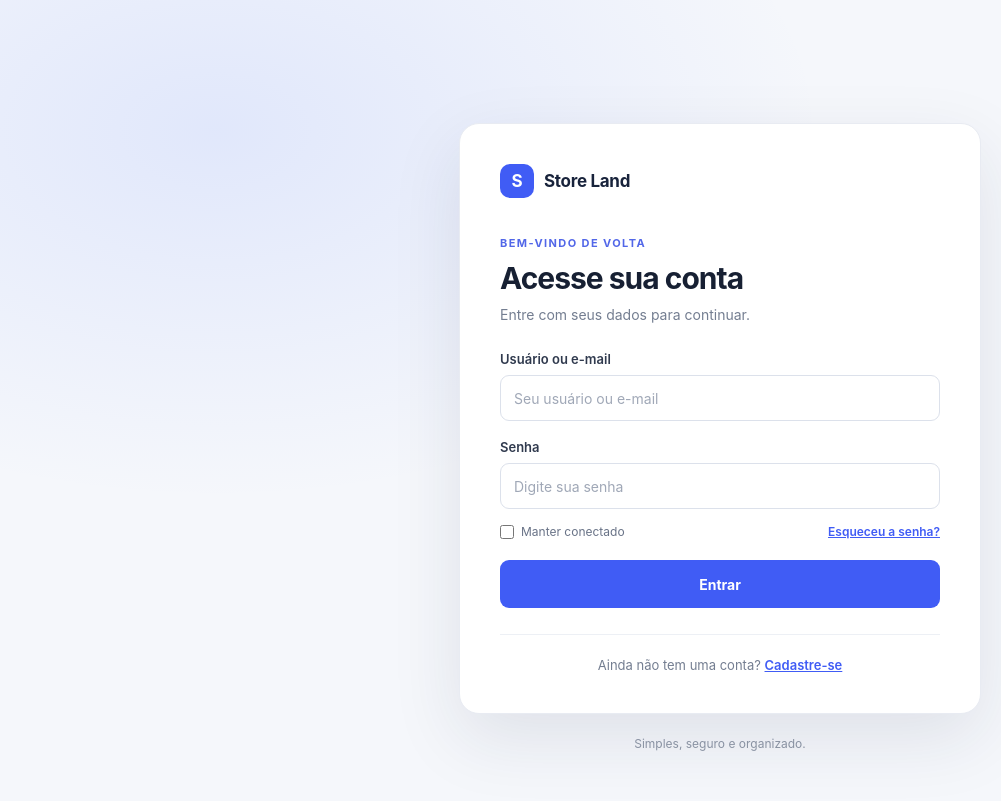
navigates to the registration route
This screenshot has width=1001, height=801.
What coordinates should you click on to do the following:
click the link "Cadastre-se"
I would click on:
 (803, 665)
Its box is top-left (764, 657), bottom-right (842, 673).
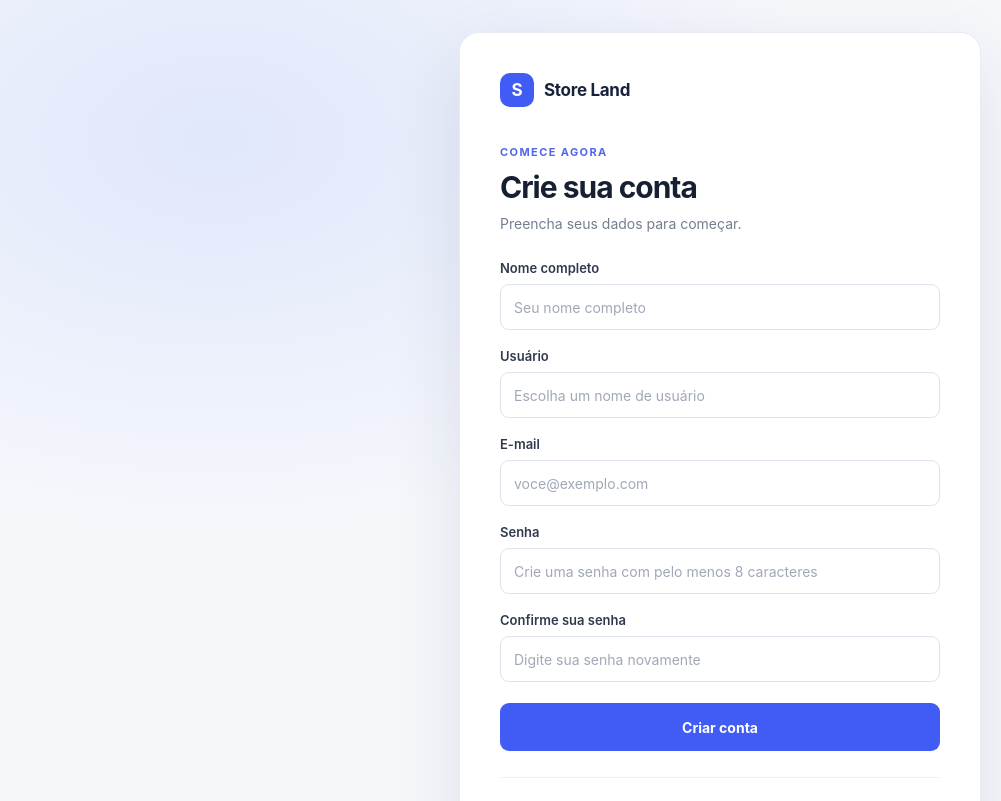
expect the heading "Crie sua conta" is shown: met, box top-left (500, 169), bottom-right (697, 205)
expect the field labelled "Nome completo" is shown: met, box top-left (500, 284), bottom-right (940, 330)
expect the field labelled "E-mail" is shown: met, box top-left (500, 460), bottom-right (940, 506)
